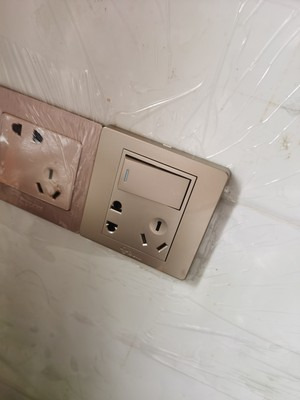switch: (111, 148, 196, 210)
